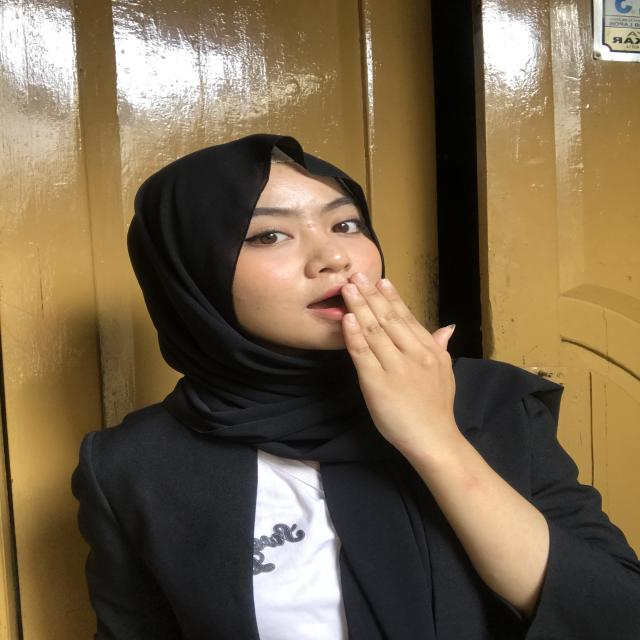ngantuk: (284, 251, 466, 458)
